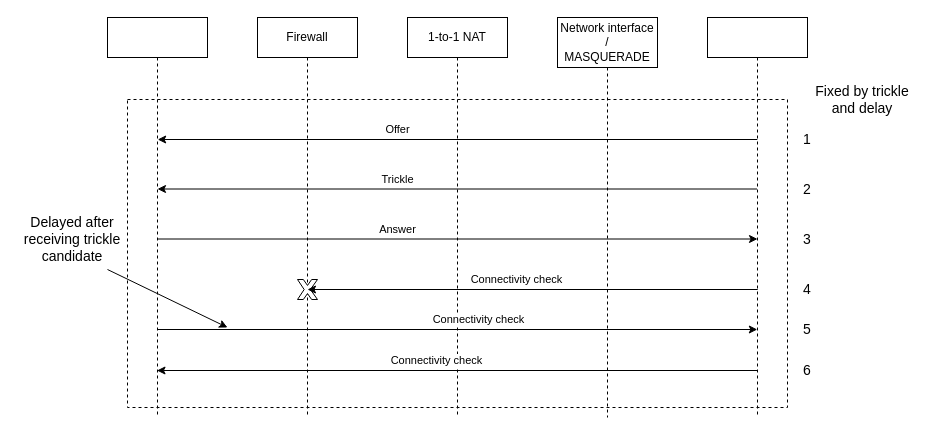
The diagram is 934 pixels wide and 435 high, and some of its shapes have lost their labels. Each missing label, with the box of its shape:
Janus client: (106, 16, 208, 418)
Janus gateway: (706, 16, 808, 418)
